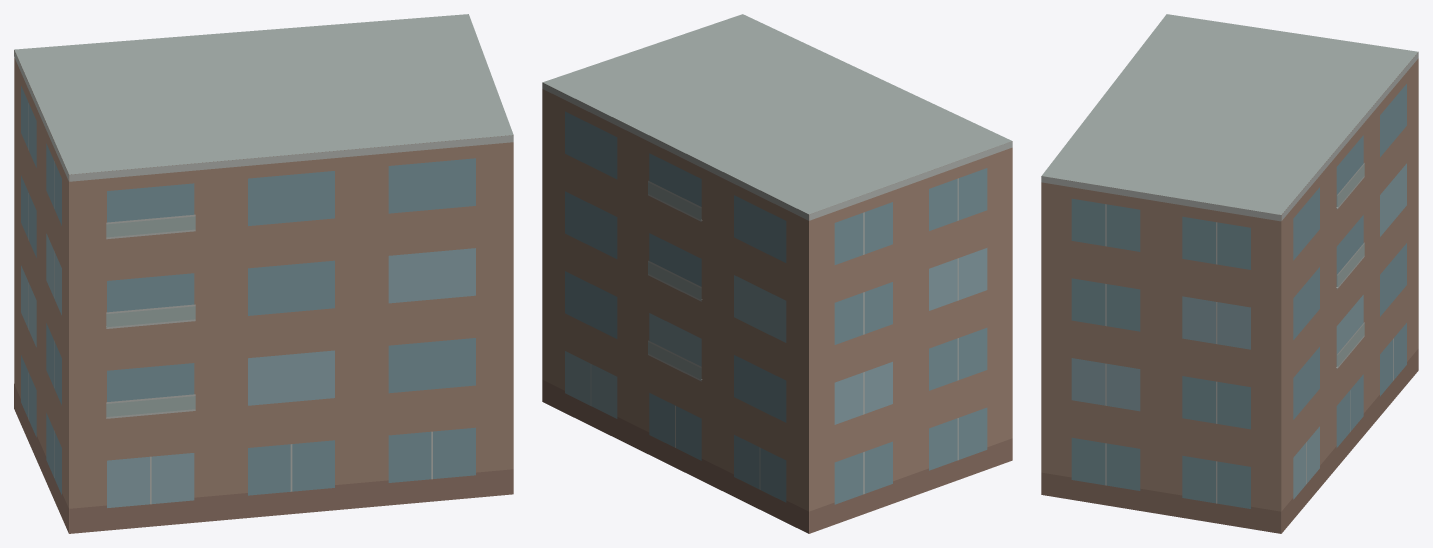
Rendered from survey-upis-32887437.glb.
3 renders of one model, left to right at view 1: azimuth 30°, elevation 25°; view 2: azimuth 150°, elevation 25°; view 3: azimuth 270°, elevation 25°, orthographic. The views are drawn at different scales.
Visible parts, largest first — view 1: survey-upis-32887437.tmp; view 2: survey-upis-32887437.tmp; view 3: survey-upis-32887437.tmp.
Boxes of the visible parts, bbox=[...] form: survey-upis-32887437.tmp: bbox=[14, 14, 513, 533]; survey-upis-32887437.tmp: bbox=[542, 14, 1012, 533]; survey-upis-32887437.tmp: bbox=[1041, 14, 1418, 533].
Size of the model in its own units: 16.51 by 12.2 by 13.09.
